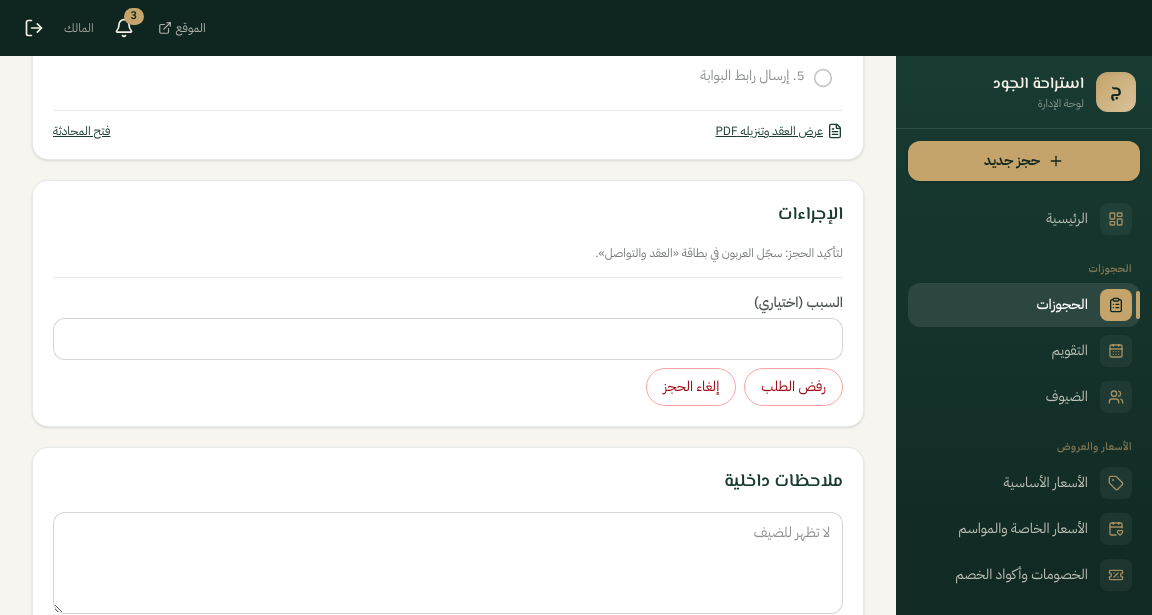
Test case: booking detail › shows the server's refusal message
(page scrolled)
Click the button "إلغاء الحجز": (691,387) [646,368,736,406]
(page scrolled)
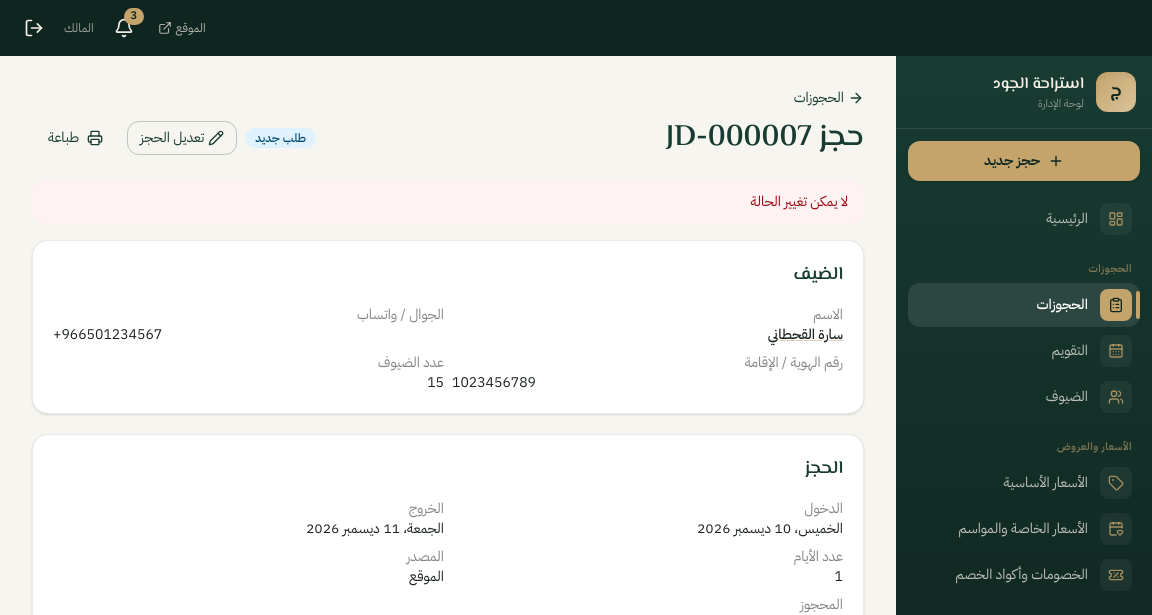
Check: the message reads "لا يمكن تغيير الحالة", box [751,191,848,212]
